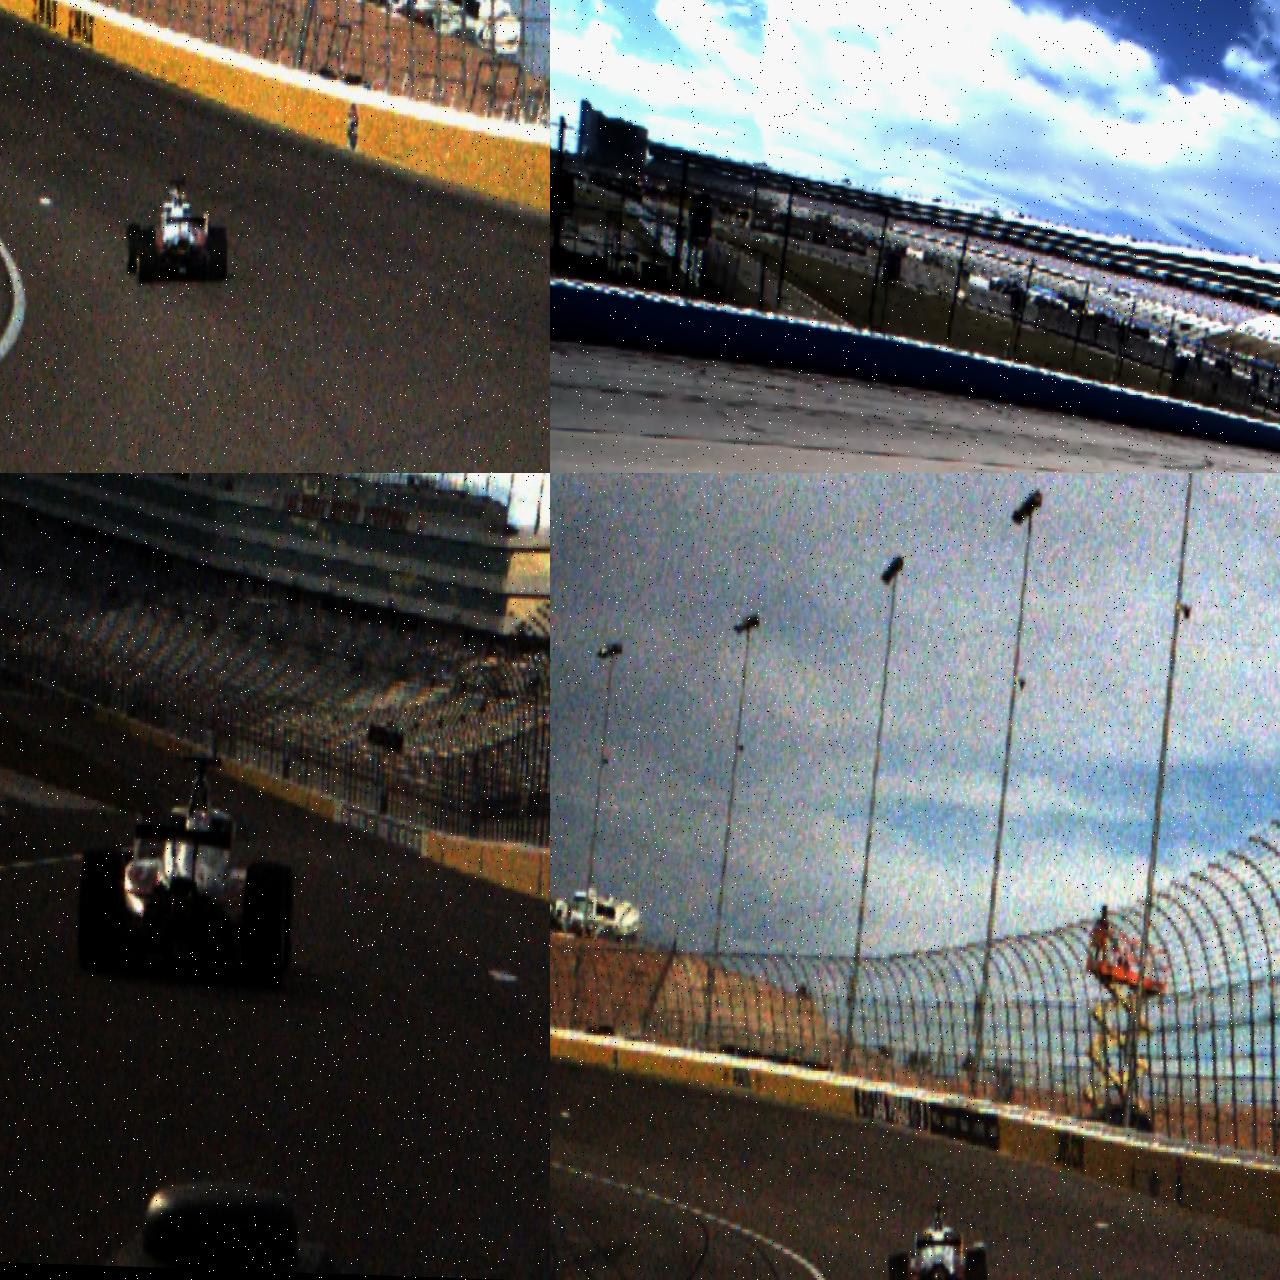AV: (75, 749, 300, 994), (125, 176, 231, 287), (886, 1200, 989, 1280)
Wheel: (75, 849, 128, 975), (243, 862, 287, 992), (207, 226, 227, 282), (137, 229, 156, 285), (964, 1248, 988, 1280), (127, 223, 141, 273), (886, 1253, 910, 1280)
